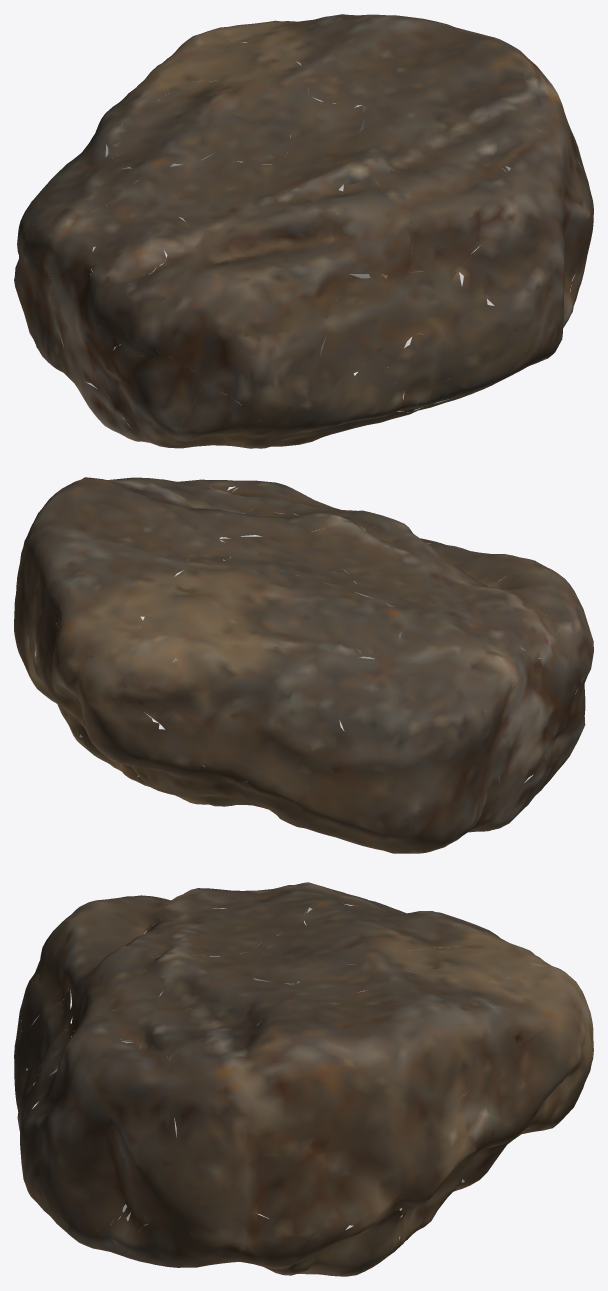
The picture shows the model from 3 angles, top to bottom: view 1: azimuth 30°, elevation 25°; view 2: azimuth 150°, elevation 25°; view 3: azimuth 270°, elevation 25°; orthographic projection. The views are drawn at different scales.
Visible parts, largest first — view 1: Rock, Rock_cell.042, Rock_cell.089, Rock_cell.041, Rock_cell.057, Rock_cell.058, Rock_cell.069, Rock_cell.087, Rock_cell.029, Rock_cell.085, Rock_cell.006, Rock_cell.034 (+20 smaller); view 2: Rock, Rock_cell.085, Rock_cell.019, Rock_cell.042, Rock_cell.057, Rock_cell.060, Rock_cell.087, Rock_cell.034, Rock_cell.093, Rock_cell.073, Rock_cell.092, Rock_cell.003 (+14 smaller); view 3: Rock, Rock_cell.073, Rock_cell.068, Rock_cell.012, Rock_cell.042, Rock_cell.071, Rock_cell.007, Rock_cell.077, Rock_cell.057, Rock_cell.089, Rock_cell.024, Rock_cell.065 (+24 smaller).
Boxes of the visible parts, left/top/right/bottom form: Rock: left=14, top=14, right=593, bottom=448; Rock_cell.042: left=158, top=161, right=343, bottom=256; Rock_cell.089: left=386, top=73, right=522, bottom=160; Rock_cell.041: left=462, top=222, right=552, bottom=338; Rock_cell.057: left=111, top=78, right=308, bottom=168; Rock_cell.058: left=373, top=170, right=479, bottom=269; Rock_cell.069: left=331, top=170, right=410, bottom=278; Rock_cell.087: left=48, top=211, right=103, bottom=385; Rock_cell.029: left=103, top=344, right=205, bottom=447; Rock_cell.085: left=15, top=162, right=141, bottom=346; Rock_cell.006: left=312, top=280, right=412, bottom=380; Rock_cell.034: left=92, top=178, right=195, bottom=349; Rock: left=14, top=477, right=593, bottom=853; Rock_cell.085: left=377, top=620, right=508, bottom=813; Rock_cell.019: left=236, top=733, right=409, bottom=852; Rock_cell.042: left=335, top=526, right=483, bottom=611; Rock_cell.057: left=219, top=560, right=404, bottom=655; Rock_cell.060: left=136, top=630, right=346, bottom=782; Rock_cell.087: left=478, top=642, right=563, bottom=793; Rock_cell.034: left=419, top=589, right=584, bottom=708; Rock_cell.093: left=219, top=527, right=337, bottom=564; Rock_cell.073: left=36, top=610, right=120, bottom=742; Rock_cell.092: left=95, top=700, right=240, bottom=806; Rock_cell.003: left=488, top=569, right=593, bottom=644; Rock: left=14, top=882, right=593, bottom=1276; Rock_cell.073: left=485, top=1012, right=593, bottom=1147; Rock_cell.068: left=232, top=1100, right=417, bottom=1240; Rock_cell.012: left=101, top=1050, right=186, bottom=1174; Rock_cell.042: left=88, top=903, right=309, bottom=964; Rock_cell.071: left=168, top=1046, right=253, bottom=1178; Rock_cell.007: left=243, top=1011, right=356, bottom=1159; Rock_cell.077: left=126, top=1183, right=295, bottom=1269; Rock_cell.057: left=303, top=901, right=459, bottom=964; Rock_cell.089: left=145, top=990, right=307, bottom=1050; Rock_cell.024: left=30, top=1119, right=127, bottom=1235; Rock_cell.065: left=194, top=1018, right=285, bottom=1097.
Size of the model in its own units: 0.5368 by 0.5027 by 0.2749.
